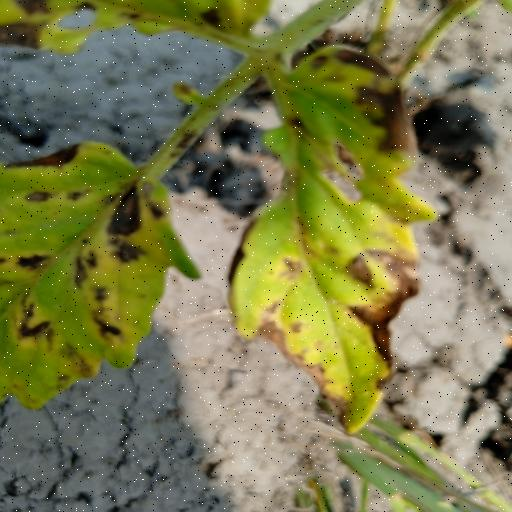Tomato_Brown_Spots: (224, 26, 439, 439), (0, 137, 204, 415)
